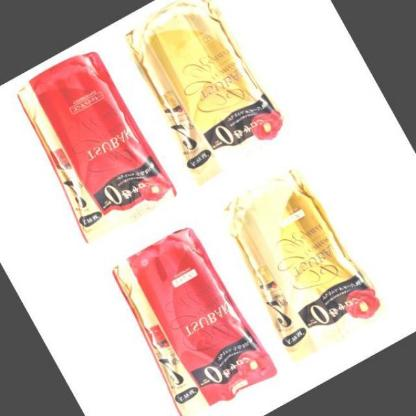Plastic Packaging: (214, 167, 388, 357), (18, 50, 182, 248), (111, 228, 281, 416), (122, 0, 290, 184)
